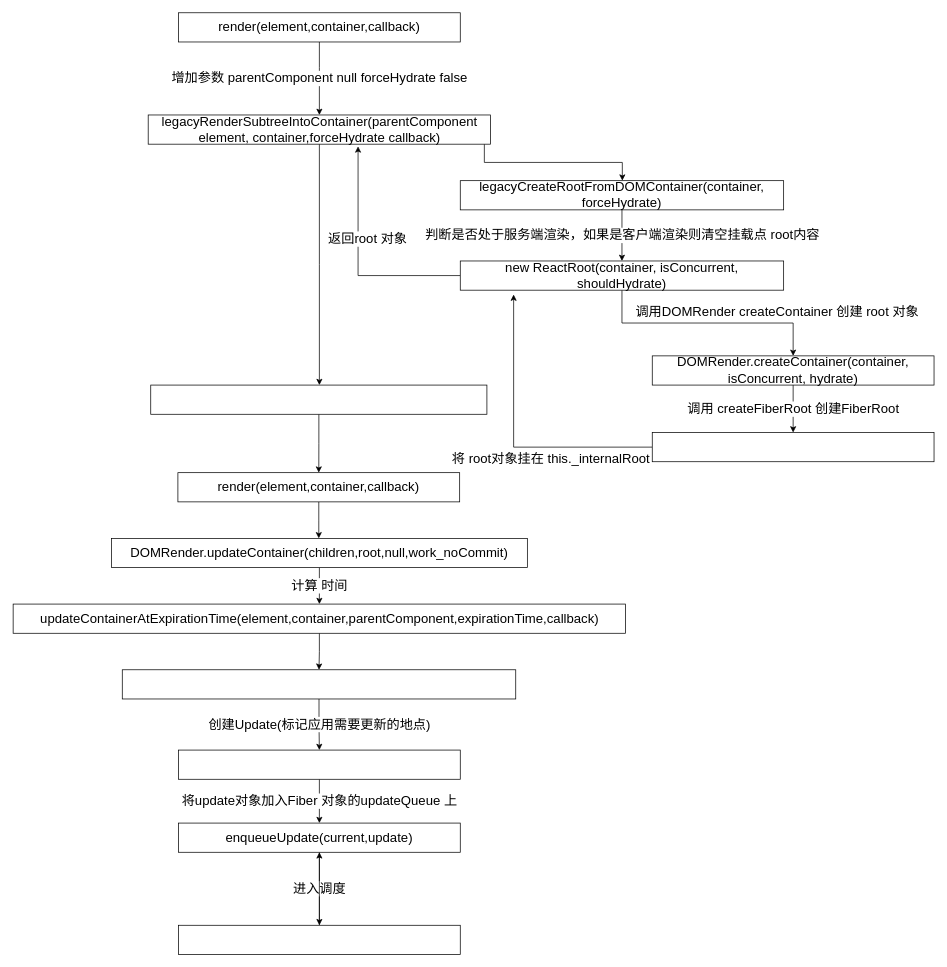
Image size: 947x967. Some labels were removed from this diagram. Here are the shapes that lost their labels. From the top down, the centre of each, then its label:
At [318,399]: "root.render(children,callback)".
At [793,447]: "createFiberRoot(containerInfo, isConcurrent, hydrate)".
At [319,684]: "scheduleRootUpdate(current,element,expirationTime,callback)".
At [319,764]: "createUpdate(expirationTime)".
At [319,939]: "scheduleWork(current,expirationTime)".
